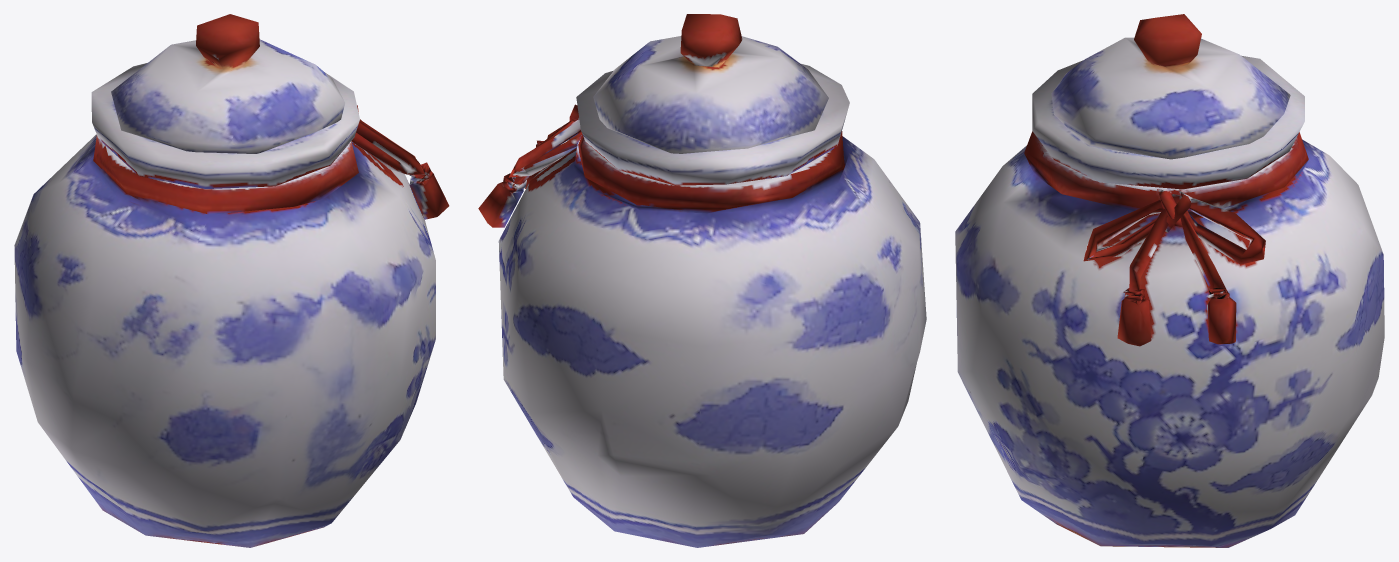
The model's file is keg_celadon_tripo.glb.
3 renders of one model, left to right at view 1: azimuth 30°, elevation 25°; view 2: azimuth 150°, elevation 25°; view 3: azimuth 270°, elevation 25°, orthographic.
Parts seen in each view (by area): view 1: keg_celadon; view 2: keg_celadon; view 3: keg_celadon.
Boxes of the visible parts, left/top/right/bottom form: keg_celadon: left=14, top=14, right=449, bottom=547; keg_celadon: left=478, top=14, right=926, bottom=547; keg_celadon: left=955, top=14, right=1384, bottom=547.
Bounding box in the file's own units: 0.3634 × 0.4315 × 0.3423.
Materials: 1 (1 with a texture image).
